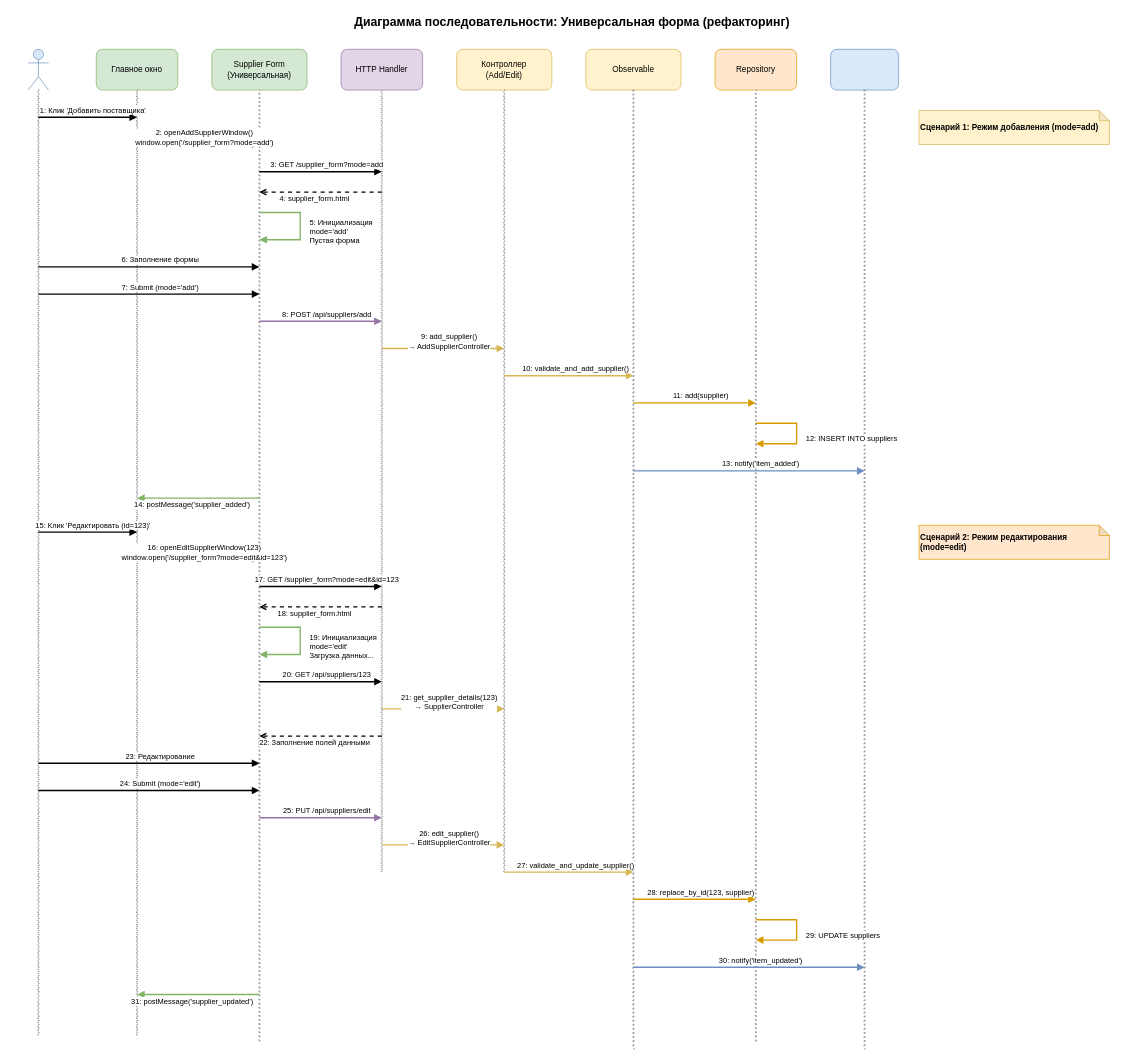
Image size: 1121x1061. Some labels were removed from this diagram. The centre of each missing label's shape, as x and y in pixels:
"Observer" goes at (x=864, y=69).
"Пользователь" goes at (x=38, y=69).
